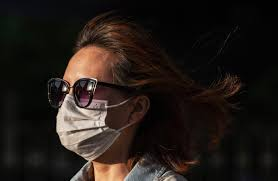mask: (55, 94, 120, 162)
